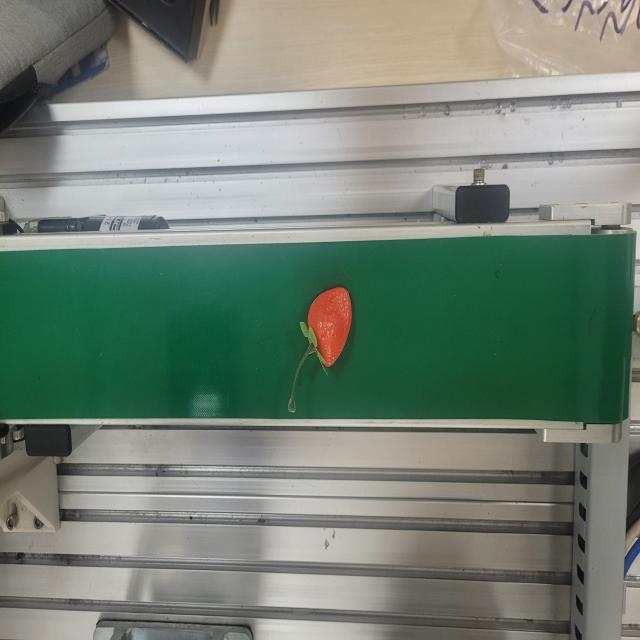Small Ripe Strawberry: (286, 283, 354, 413)
